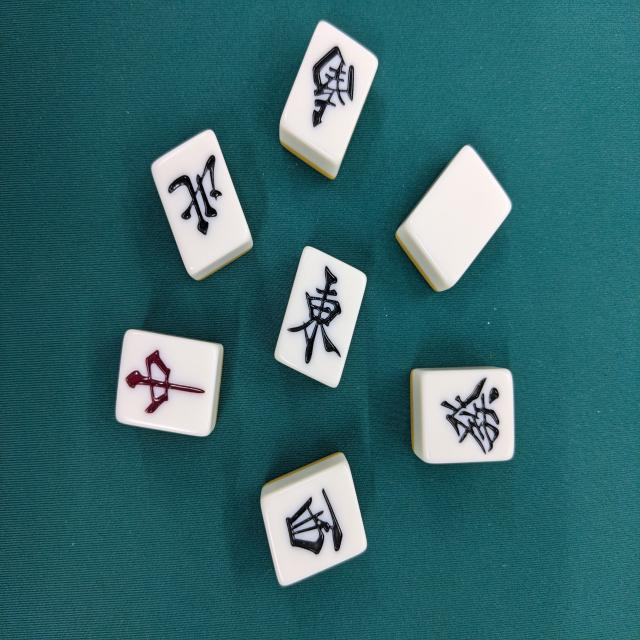haku: (394, 145, 513, 294)
hatu: (409, 368, 516, 467)
higashi: (272, 244, 370, 392)
kita: (149, 129, 255, 283)
minami: (279, 21, 379, 181)
nishi: (257, 452, 367, 589)
tyun: (114, 330, 224, 440)
